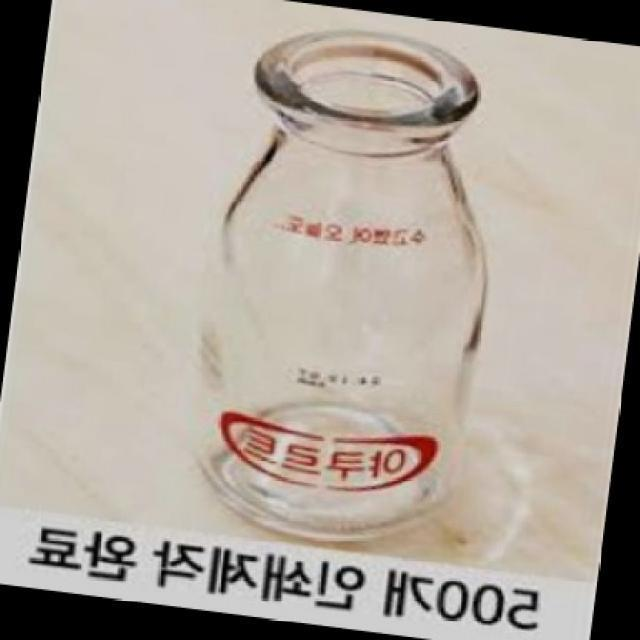Glass: (193, 31, 489, 544)
